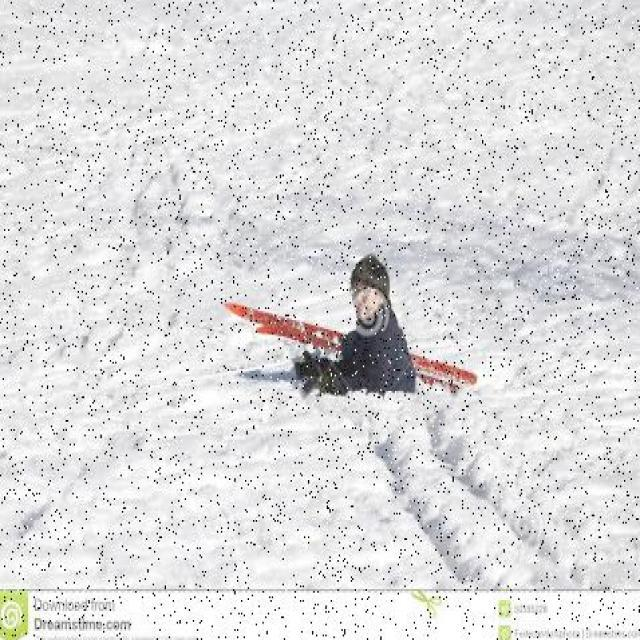fall: (282, 256, 412, 404)
